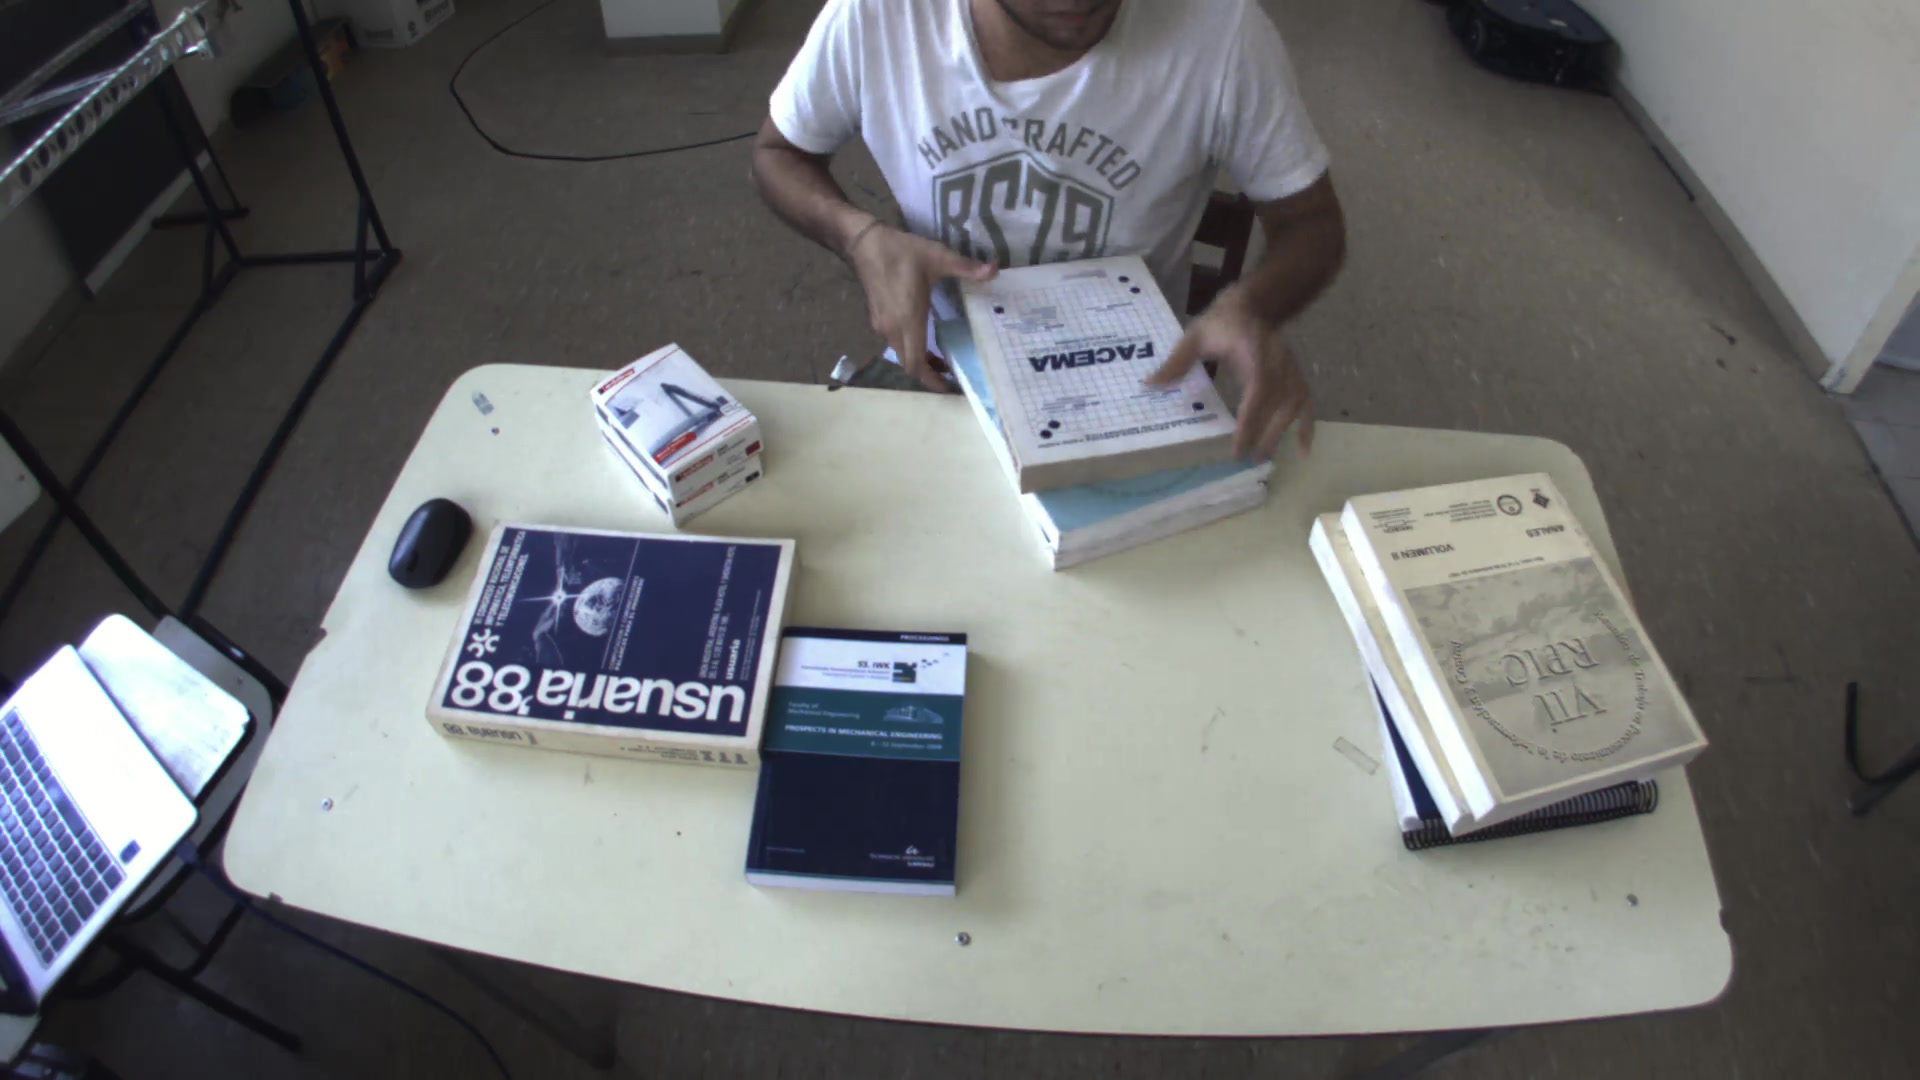hand: (1145, 280, 1336, 468), (845, 214, 1013, 389)
